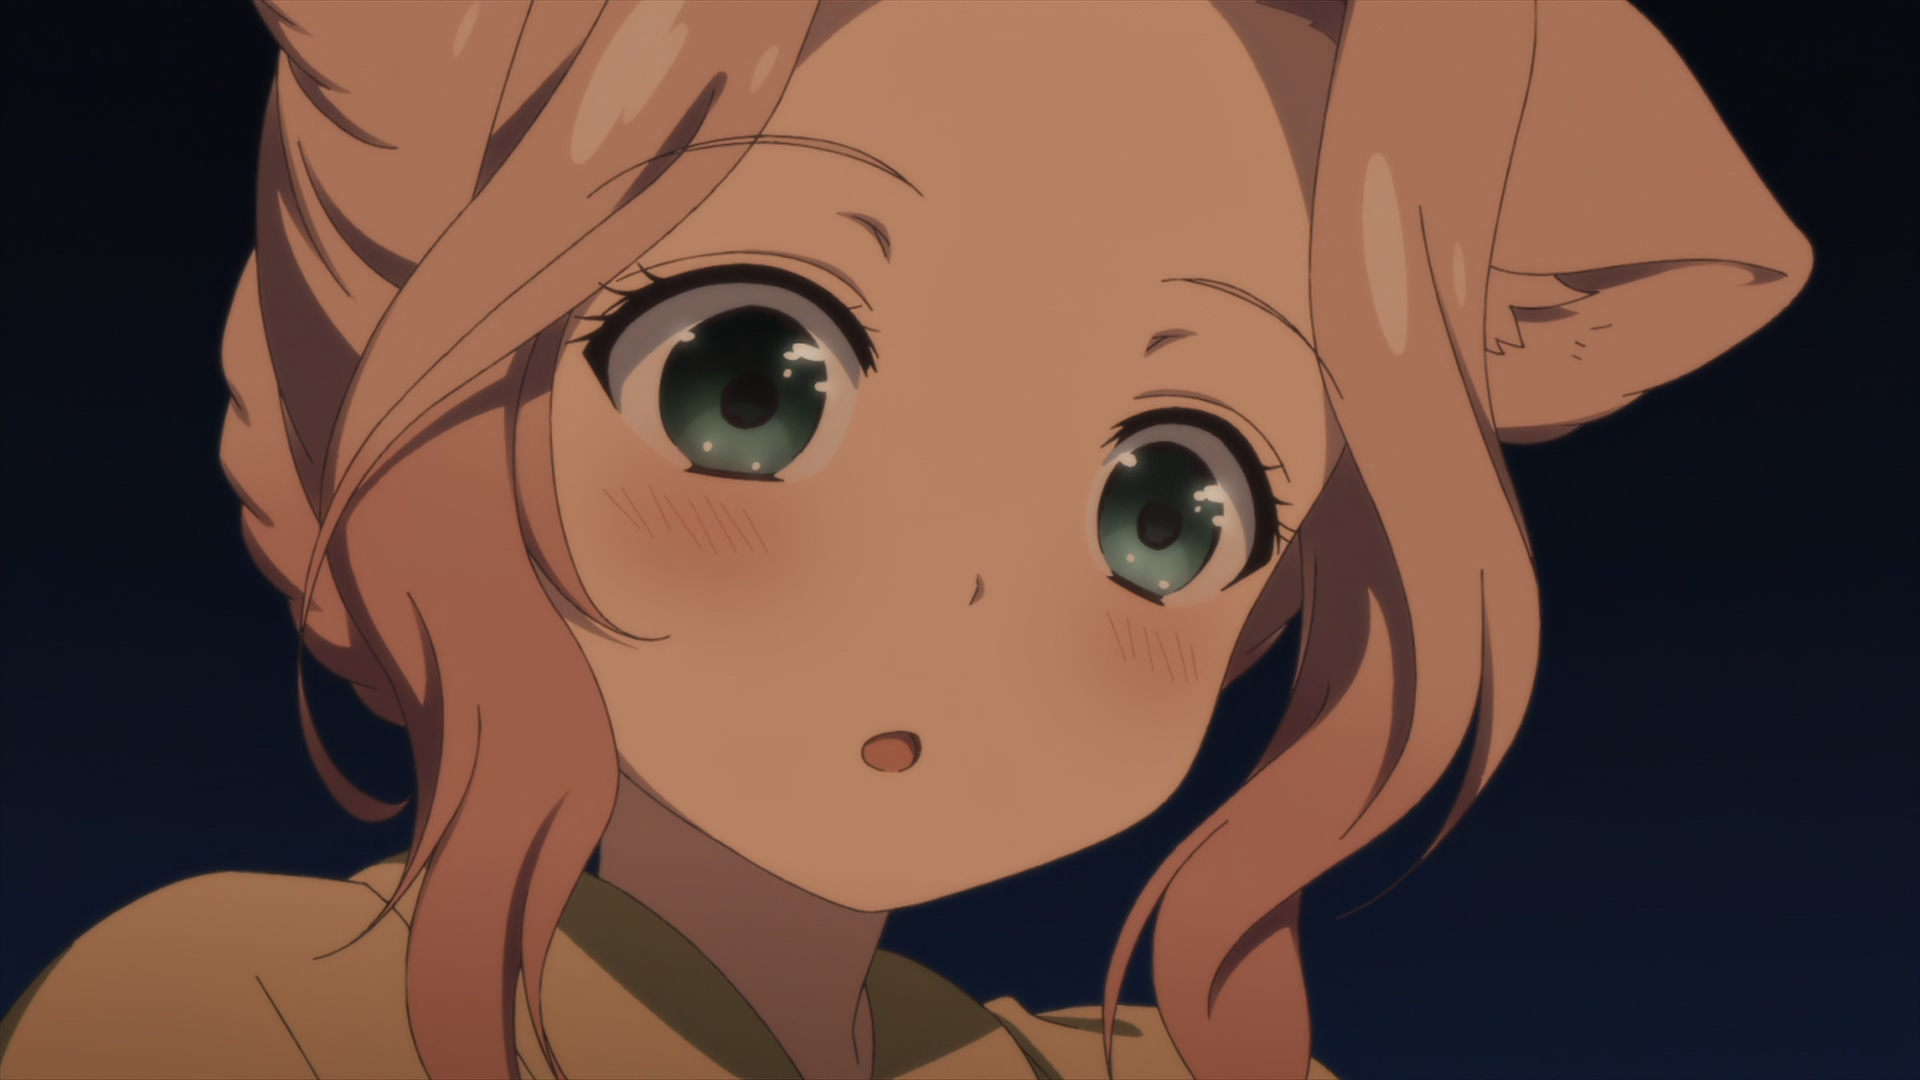莲: (1, 1, 1816, 1080)
